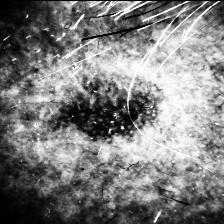Potentially Malignant Skin Tumors: (48, 72, 165, 146)
